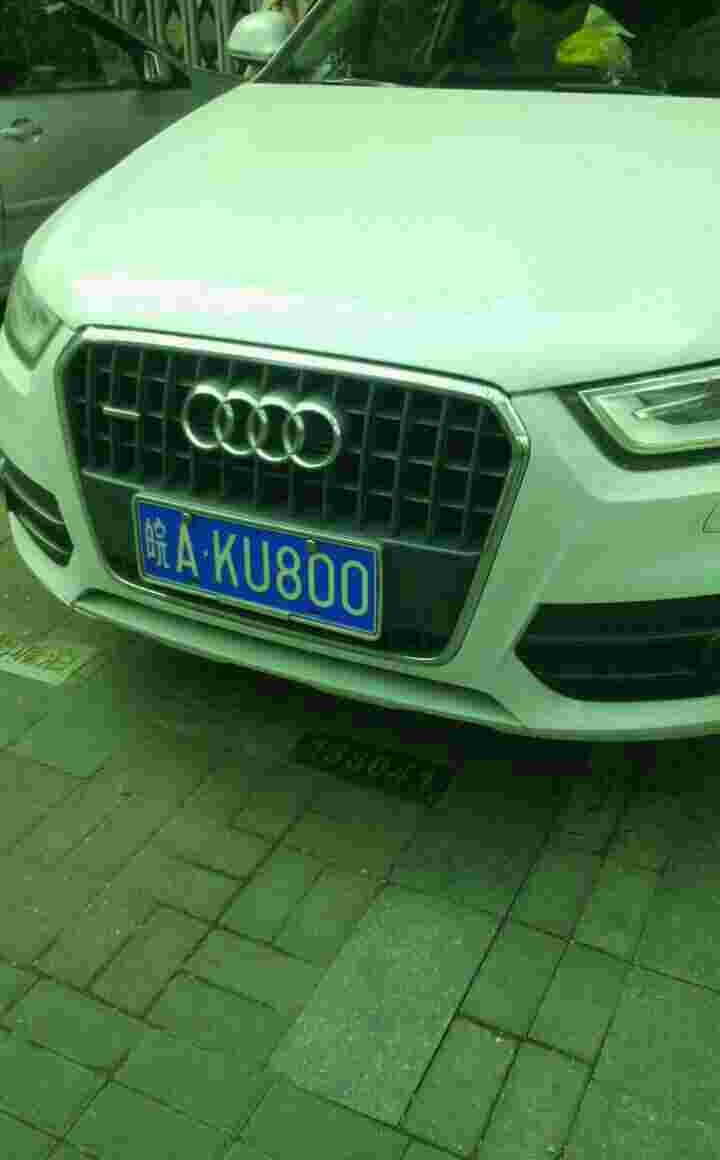license_plate: (126, 506, 396, 642)
